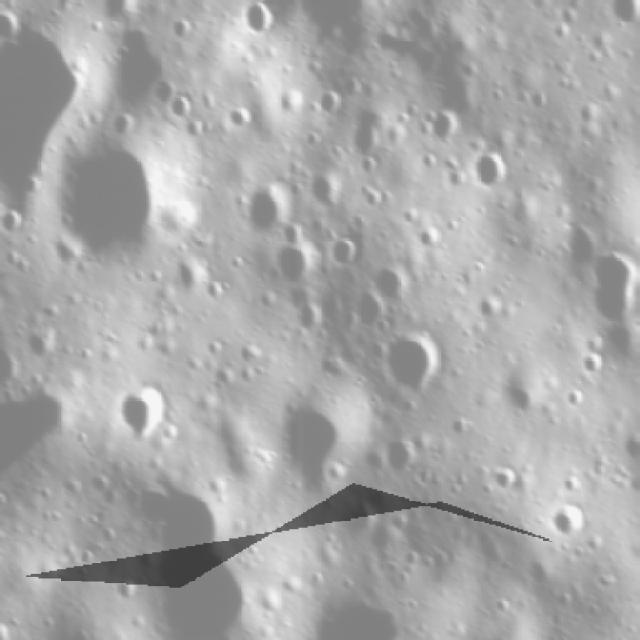crater: (49, 129, 162, 260), (277, 391, 355, 497), (381, 328, 445, 399), (586, 244, 639, 328), (112, 380, 177, 442), (242, 176, 300, 241), (351, 107, 394, 170), (460, 142, 511, 195), (367, 254, 416, 306), (270, 245, 322, 292), (422, 105, 469, 153), (344, 284, 390, 331), (302, 169, 348, 216), (542, 498, 586, 544), (382, 432, 426, 478), (327, 224, 370, 271), (241, 2, 285, 43), (472, 292, 510, 328), (26, 327, 60, 364), (168, 10, 201, 48), (310, 88, 347, 120), (167, 92, 199, 128), (578, 350, 610, 384), (224, 105, 258, 136), (494, 459, 521, 498), (3, 198, 25, 244), (149, 76, 177, 104), (117, 573, 138, 605), (75, 547, 100, 570)
